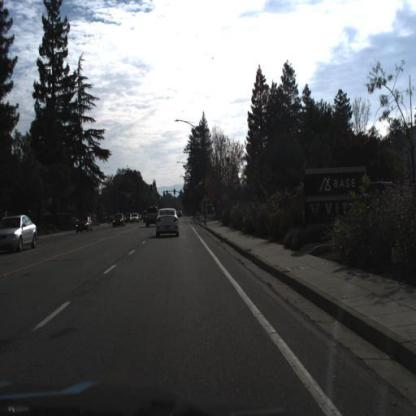car: (1, 213, 38, 252), (156, 206, 180, 236), (74, 213, 95, 233), (145, 204, 159, 227), (112, 211, 127, 228), (78, 219, 92, 235), (131, 212, 141, 227)
